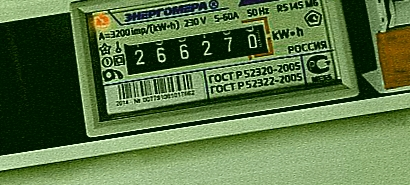0: (244, 31, 259, 49)
2: (130, 46, 146, 66), (199, 37, 212, 56)
6: (176, 41, 191, 61), (153, 44, 168, 63)
7: (221, 33, 235, 53)
screen: (111, 11, 280, 84)
